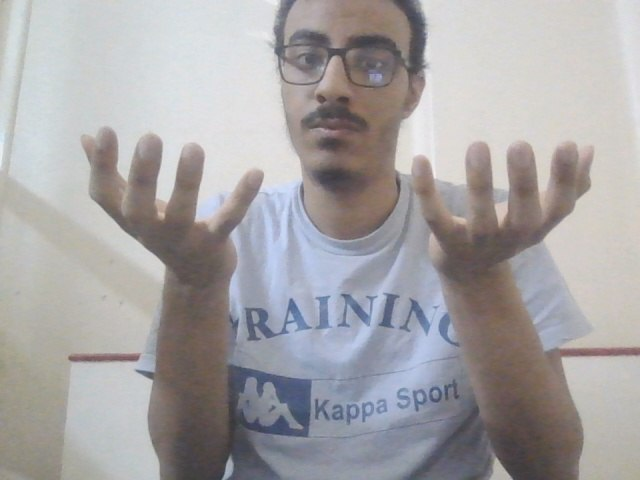What: (72, 123, 604, 277)
